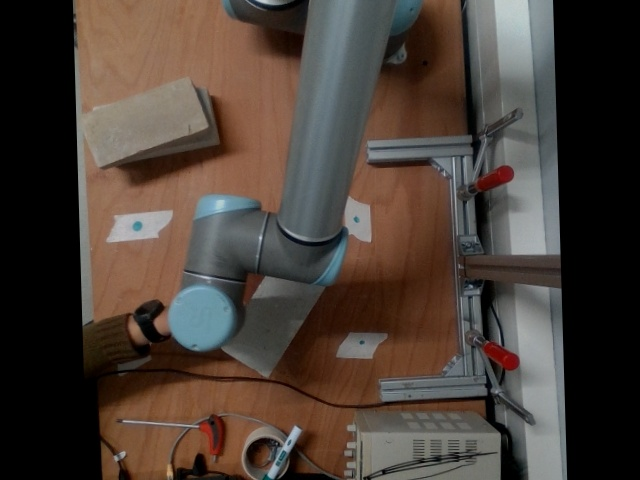brick: (78, 77, 204, 164)
